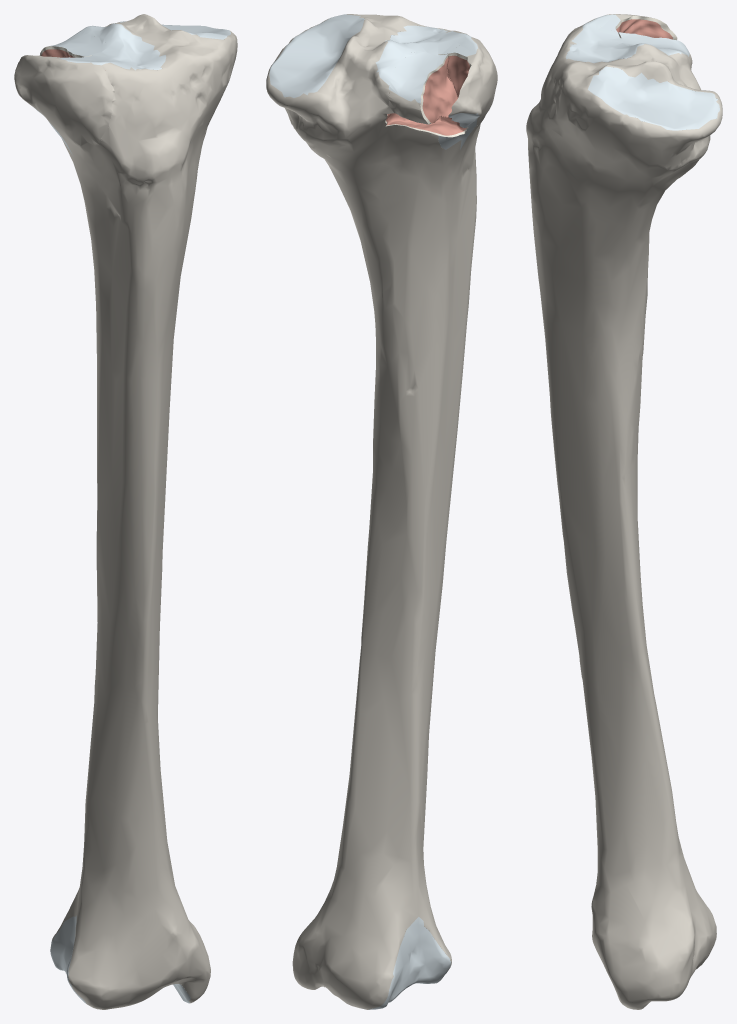
3 renders of one model, left to right at view 1: azimuth 30°, elevation 25°; view 2: azimuth 150°, elevation 25°; view 3: azimuth 270°, elevation 25°, orthographic. The views are drawn at different scales.
Parts seen in each view (by area): view 1: tibia: tibia, tibia: lateral split fragment, tibia: depressed fragment; view 2: tibia: tibia, tibia: depressed fragment, tibia: lateral split fragment; view 3: tibia: tibia, tibia: lateral split fragment, tibia: depressed fragment.
Boxes of the visible parts, bbox=[...] form: tibia: tibia: bbox=[50, 14, 237, 1009]; tibia: lateral split fragment: bbox=[14, 55, 114, 145]; tibia: depressed fragment: bbox=[39, 32, 106, 57]; tibia: tibia: bbox=[266, 14, 484, 1009]; tibia: depressed fragment: bbox=[385, 52, 457, 124]; tibia: lateral split fragment: bbox=[447, 35, 497, 131]; tibia: tibia: bbox=[526, 24, 722, 1009]; tibia: lateral split fragment: bbox=[562, 14, 677, 45]; tibia: depressed fragment: bbox=[618, 32, 692, 64].
Bounding box in the file's own units: 0.0786 × 0.358 × 0.0682.
